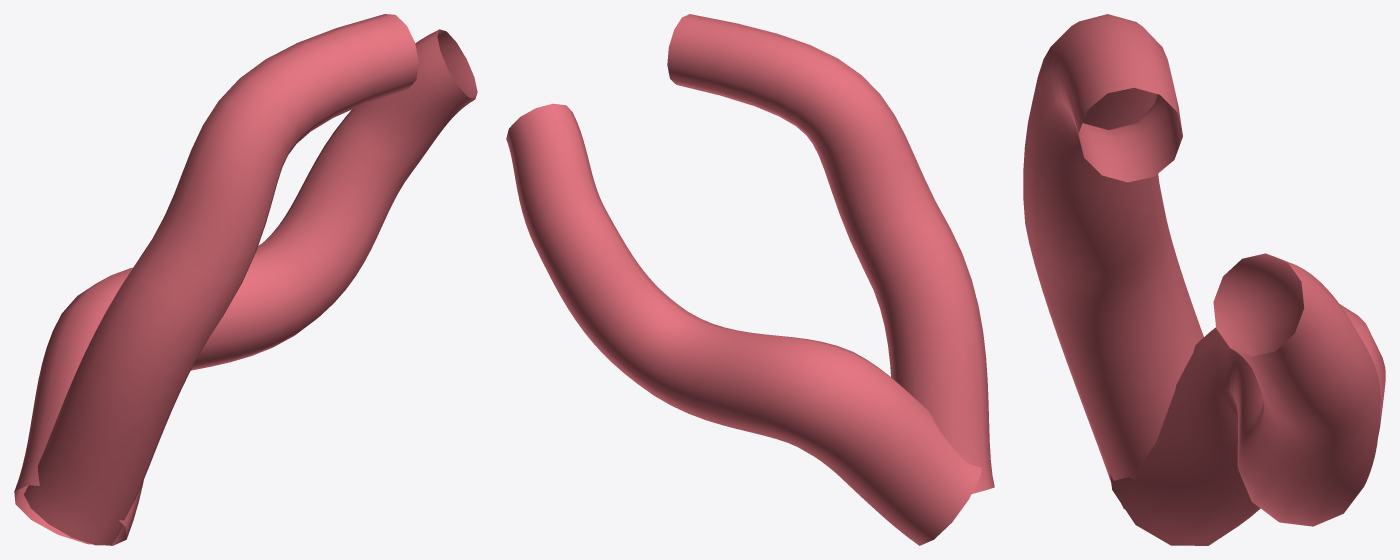
3 views of the same model, side by side, from view 1: azimuth 30°, elevation 25°; view 2: azimuth 150°, elevation 25°; view 3: azimuth 270°, elevation 25° (orthographic). The views are drawn at different scales.
Parts seen in each view (by area): view 1: ZA_8e9b657f992cde36; view 2: ZA_8e9b657f992cde36; view 3: ZA_8e9b657f992cde36.
Boxes of the visible parts, box(x1,y1,x2,y2) form: ZA_8e9b657f992cde36: box(14, 14, 477, 545); ZA_8e9b657f992cde36: box(506, 14, 994, 545); ZA_8e9b657f992cde36: box(1023, 14, 1385, 545).
Size of the model in its own units: 0.0127 by 0.0121 by 0.00622.
